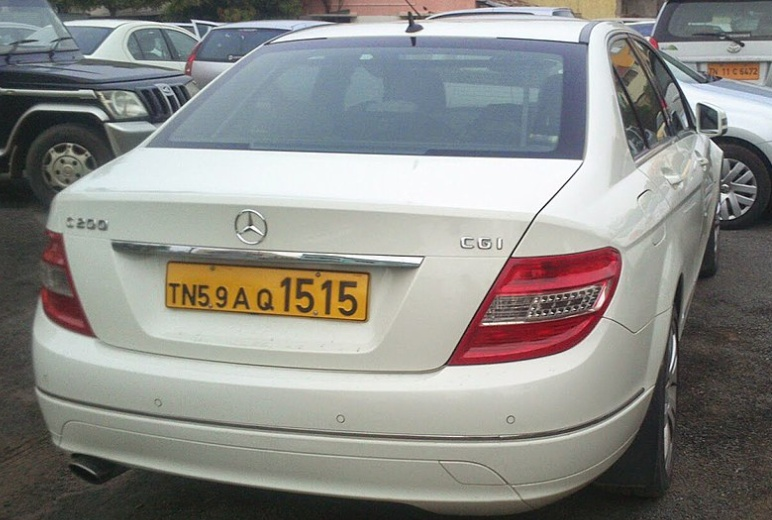number_plate: (163, 253, 373, 327)
